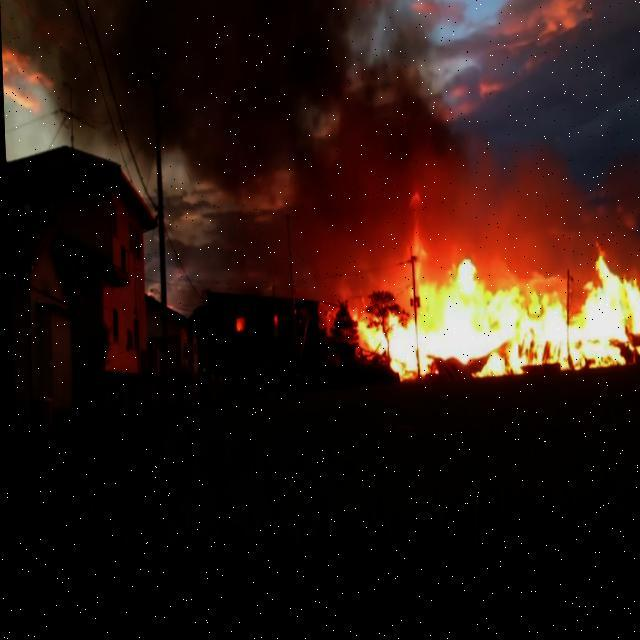Fire: (345, 185, 639, 393), (231, 318, 243, 337), (271, 317, 277, 330)
